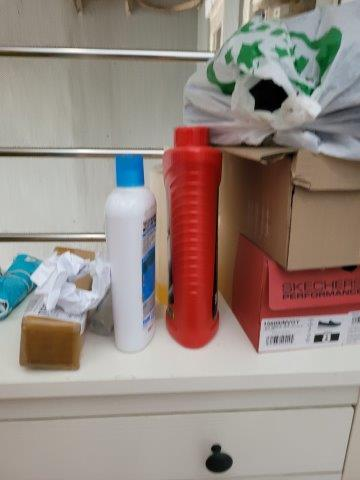kardus: (214, 143, 360, 271), (228, 245, 360, 344), (20, 310, 87, 380)
kertas: (41, 253, 116, 312)
plastik: (169, 10, 360, 150)
